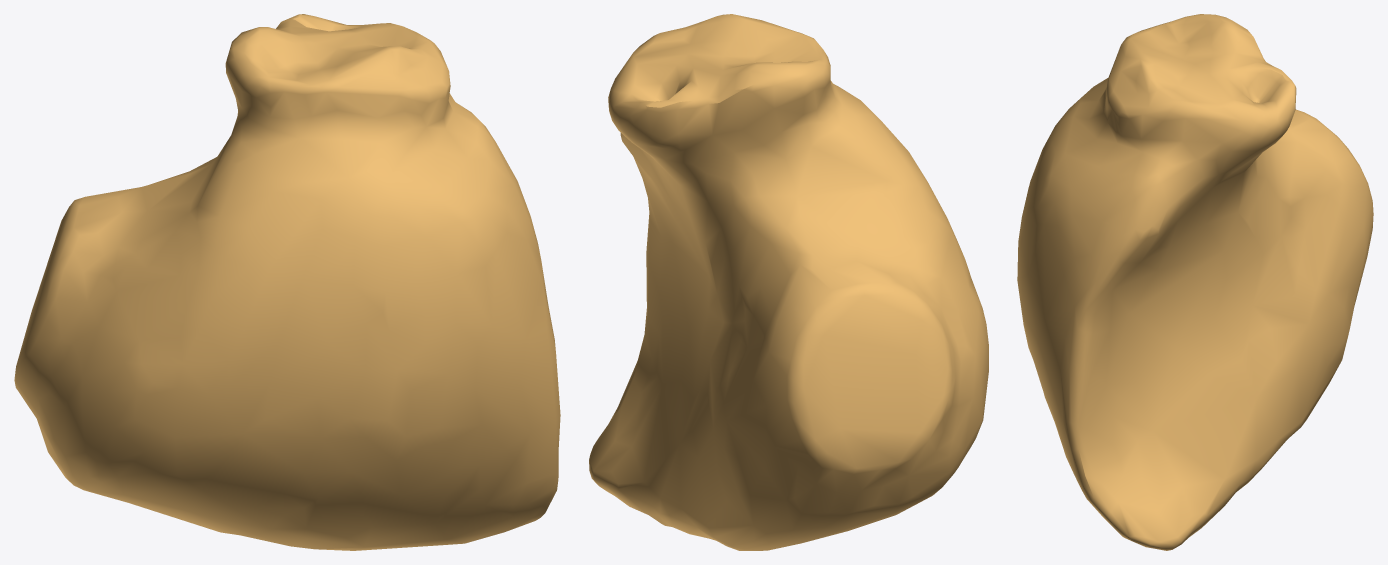
File: ventriculo-direito.glb
3 renders of one model, left to right at view 1: azimuth 30°, elevation 25°; view 2: azimuth 150°, elevation 25°; view 3: azimuth 270°, elevation 25°, orthographic. The views are drawn at different scales.
Visible parts, largest first — view 1: ventriculo-direito; view 2: ventriculo-direito; view 3: ventriculo-direito.
Boxes of the visible parts, x1,y1,x2,y2 form: ventriculo-direito: (14, 14, 560, 550); ventriculo-direito: (589, 14, 988, 550); ventriculo-direito: (1017, 14, 1373, 550).
Size of the model in its own units: 0.0714 by 0.0805 by 0.0582.
